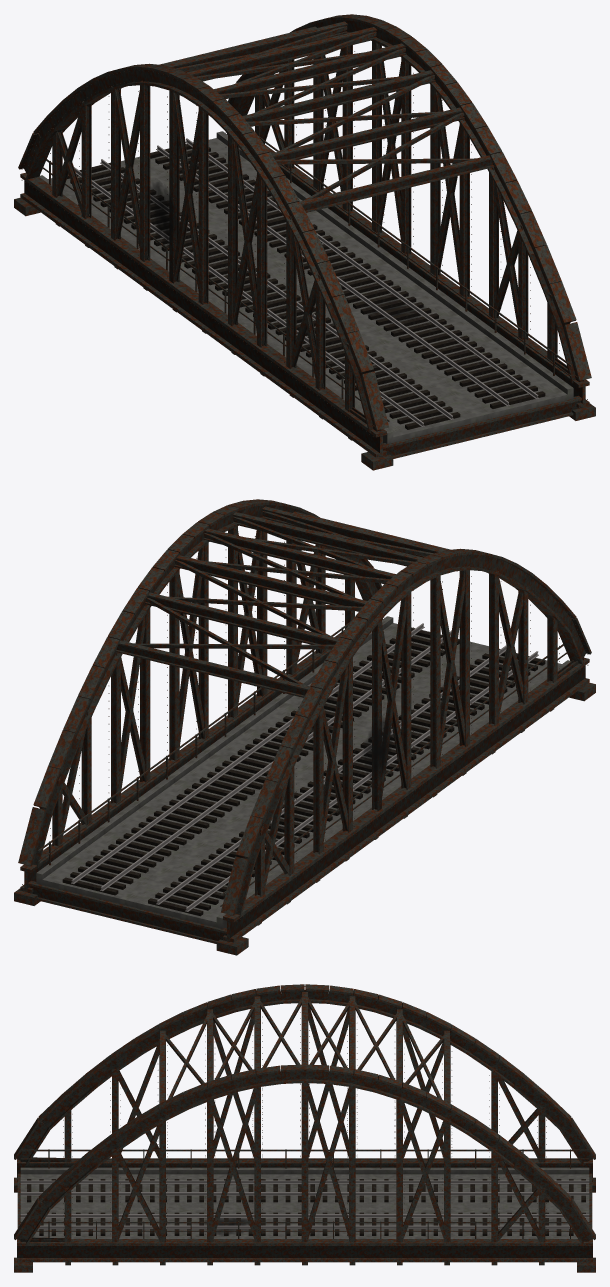
File: bridge_section.glb
The picture shows the model from 3 angles, top to bottom: view 1: azimuth 30°, elevation 25°; view 2: azimuth 150°, elevation 25°; view 3: azimuth 270°, elevation 25°; orthographic projection. The views are drawn at different scales.
Visible parts, largest first — view 1: BridgeSpan; view 2: BridgeSpan; view 3: BridgeSpan.
Part boxes in pixels (x1,y1,x2,y2): BridgeSpan: (14, 14, 595, 470); BridgeSpan: (14, 499, 595, 955); BridgeSpan: (14, 984, 595, 1272).
Bounding box in the file's own units: 11 × 11.75 × 30.7.
5 materials, 4 textured.
